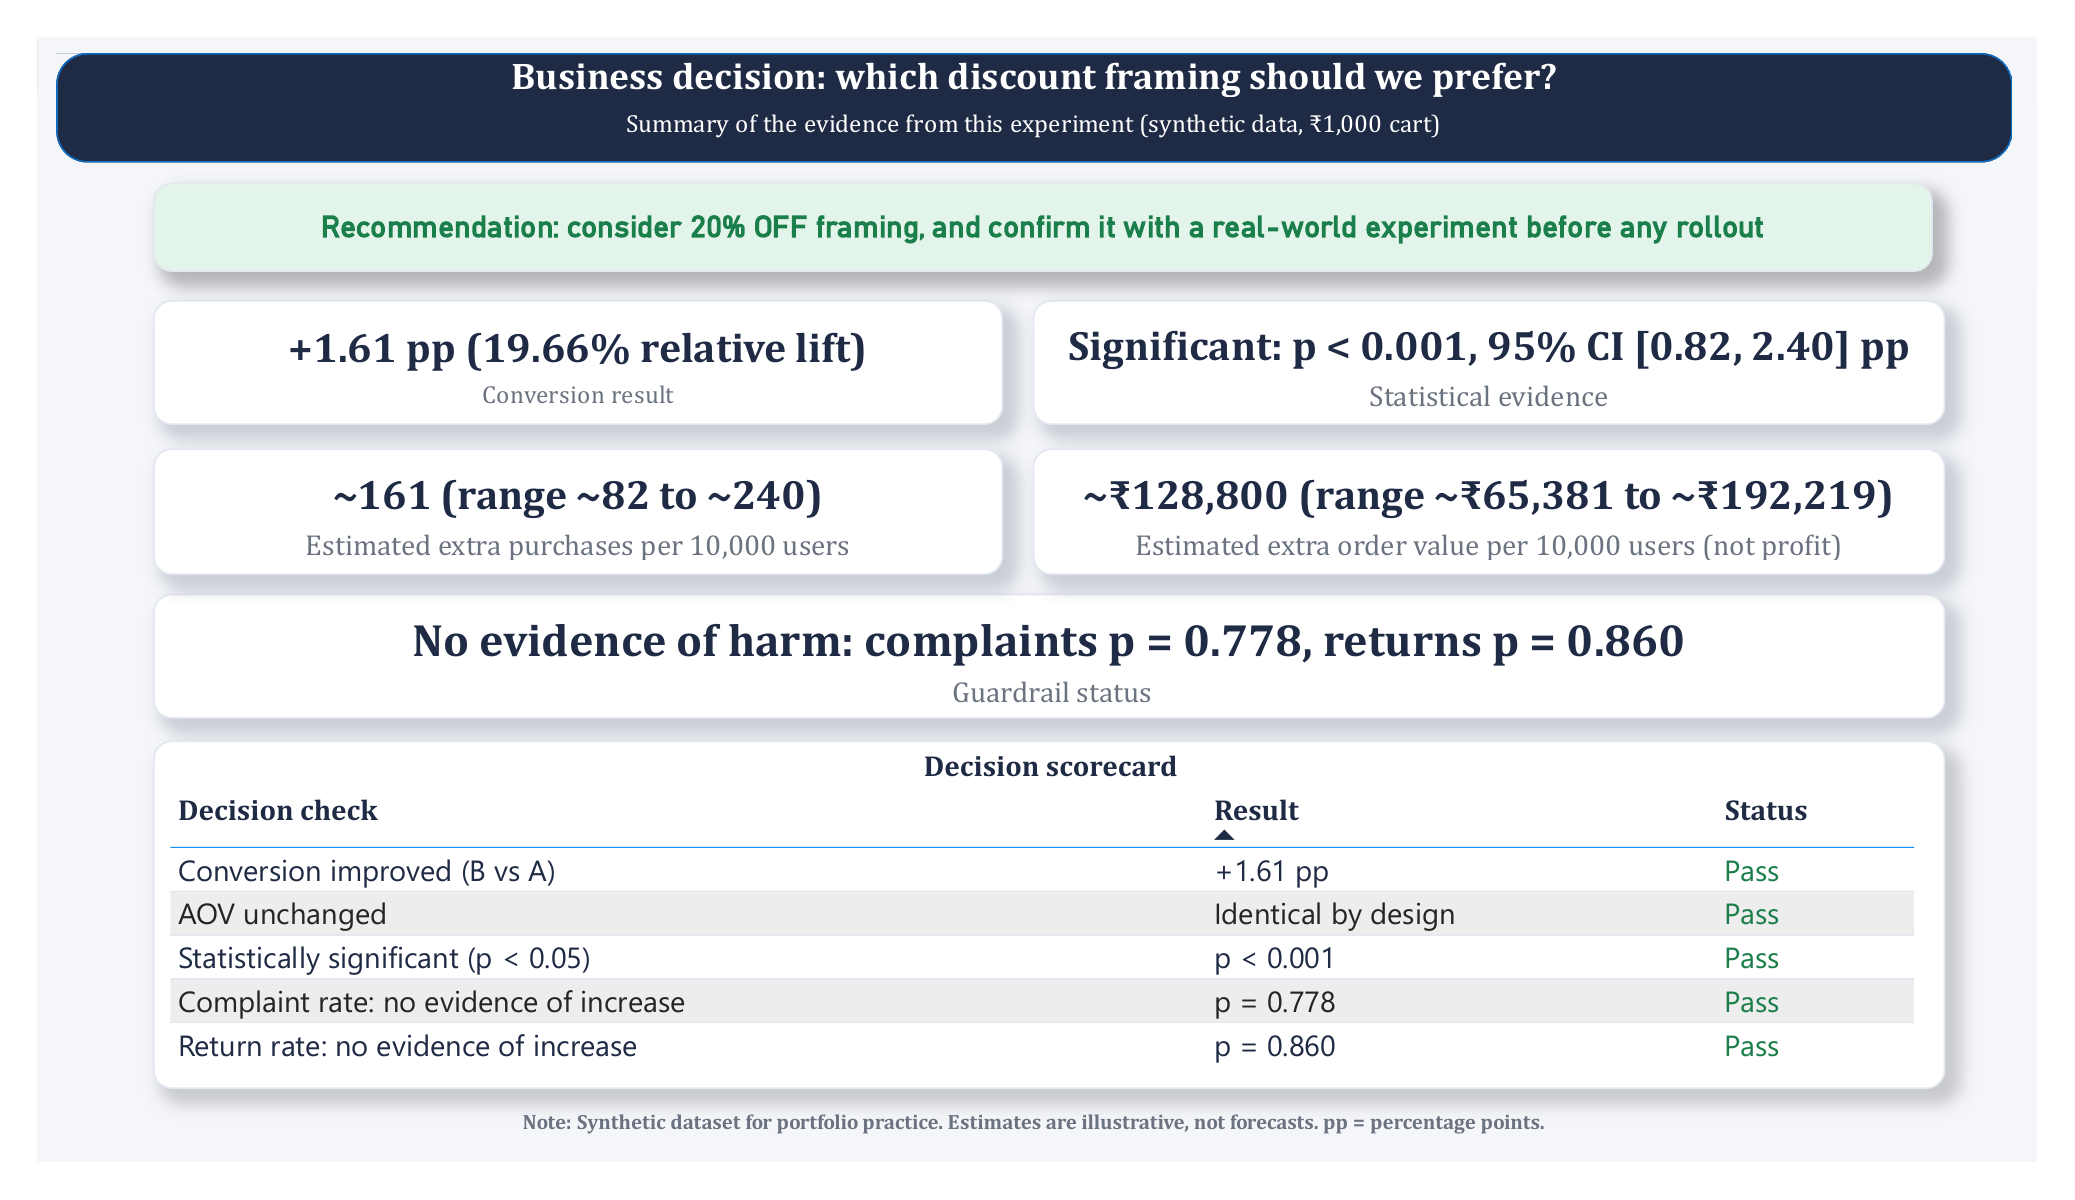

The dashboard page shown, as its layout file describes it:
{"tool":"powerbi","page":{"name":"Business Decision","canvas":[1280,720],"ordinal":3},"visuals":[{"type":"shape","box":[12.1,9.7,1252.3,70],"z":0},{"type":"textbox","box":[220.8,41,833.7,38.6],"z":1000},{"type":"card","fields":{"Values":["ecommerce_discount_ab_test.Conversion Evidence"]},"box":[74,168,544.2,80.3],"z":2000},{"type":"card","fields":{"Values":["ecommerce_discount_ab_test.Statistical Evidence"]},"box":[637,168,584.3,80.3],"z":3000},{"type":"card","fields":{"Values":["ecommerce_discount_ab_test.Guardrail Status"]},"box":[74,356.1,1147.3,80.3],"z":4000},{"type":"card","fields":{"Values":["ecommerce_discount_ab_test.Recommendation"]},"box":[74,92.8,1138.6,57.7],"z":5000},{"type":"shape","box":[28.9,686.1,1217.2,34.2],"z":6000},{"type":"card","fields":{"Values":["ecommerce_discount_ab_test.Extra Purchases Text"]},"box":[74,263.3,544.2,80.3],"z":7000},{"type":"card","fields":{"Values":["ecommerce_discount_ab_test.Extra Value Text"]},"box":[637,263.3,584.3,80.3],"z":8000},{"type":"tableEx","title":"Decision scorecard","fields":{"Values":["Scorecard.Check","ecommerce_discount_ab_test.Scorecard Result","ecommerce_discount_ab_test.Scorecard Status"]},"box":[74,450.2,1147.3,223.2],"z":9000}]}

Visuals, with their boxes on the page's 1280x720 design canvas (x1, y1, x2, y2). These are canvas units, not pixel positions in the 2075x1200 screenshot, which may show the page scaled, cropped or inside an application window:
shape: Rect(12, 10, 1264, 80)
textbox: Rect(221, 41, 1054, 80)
card - ecommerce_discount_ab_test.Conversion Evidence: Rect(74, 168, 618, 248)
card - ecommerce_discount_ab_test.Statistical Evidence: Rect(637, 168, 1221, 248)
card - ecommerce_discount_ab_test.Guardrail Status: Rect(74, 356, 1221, 436)
card - ecommerce_discount_ab_test.Recommendation: Rect(74, 93, 1213, 150)
shape: Rect(29, 686, 1246, 720)
card - ecommerce_discount_ab_test.Extra Purchases Text: Rect(74, 263, 618, 344)
card - ecommerce_discount_ab_test.Extra Value Text: Rect(637, 263, 1221, 344)
"Decision scorecard" tableEx: Rect(74, 450, 1221, 673)
